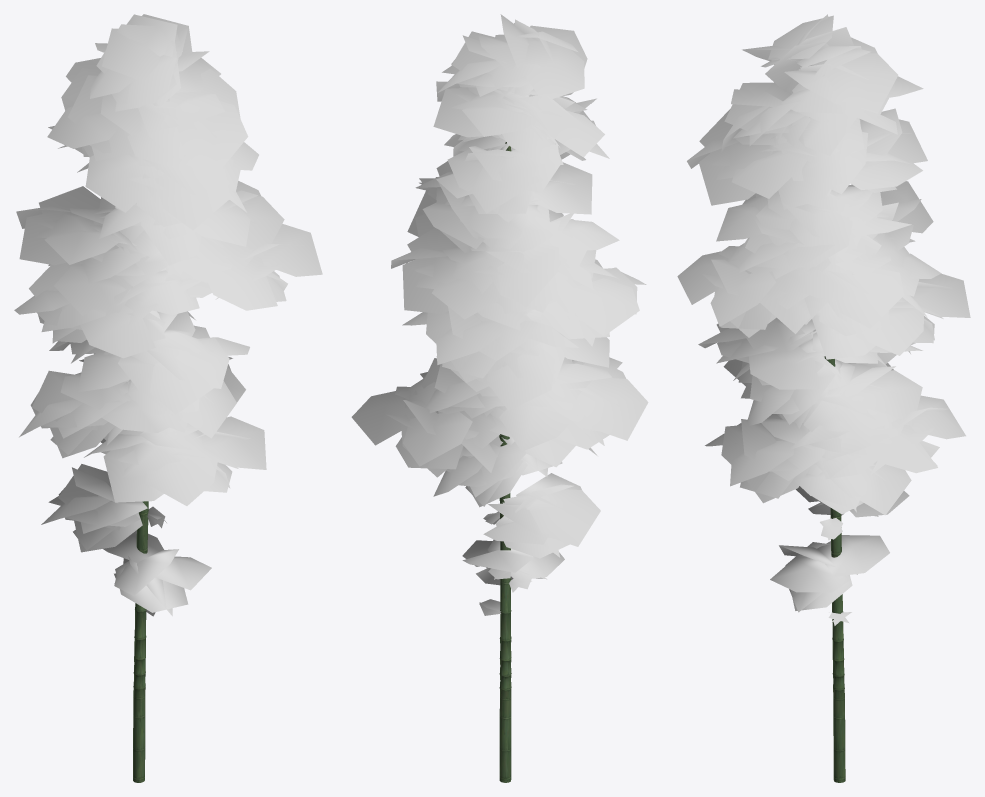
File: SM_EastLands_Bamboo_Tall_02.fbx
3 views of the same model, side by side, from view 1: azimuth 30°, elevation 25°; view 2: azimuth 150°, elevation 25°; view 3: azimuth 270°, elevation 25° (orthographic).
Visible parts, largest first — view 1: SM_EastLands_Bamboo_Tall_02_LOD0; view 2: SM_EastLands_Bamboo_Tall_02_LOD0; view 3: SM_EastLands_Bamboo_Tall_02_LOD0.
Boxes of the visible parts, x1,y1,x2,y2 form: SM_EastLands_Bamboo_Tall_02_LOD0: [14, 14, 322, 782]; SM_EastLands_Bamboo_Tall_02_LOD0: [351, 14, 648, 782]; SM_EastLands_Bamboo_Tall_02_LOD0: [677, 14, 970, 782].
Size of the model in its own units: 772 by 2186 by 769.
